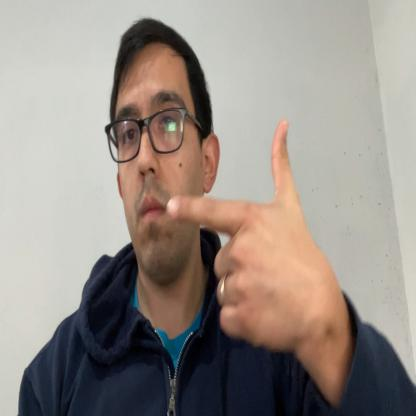G: (168, 116, 306, 355)
